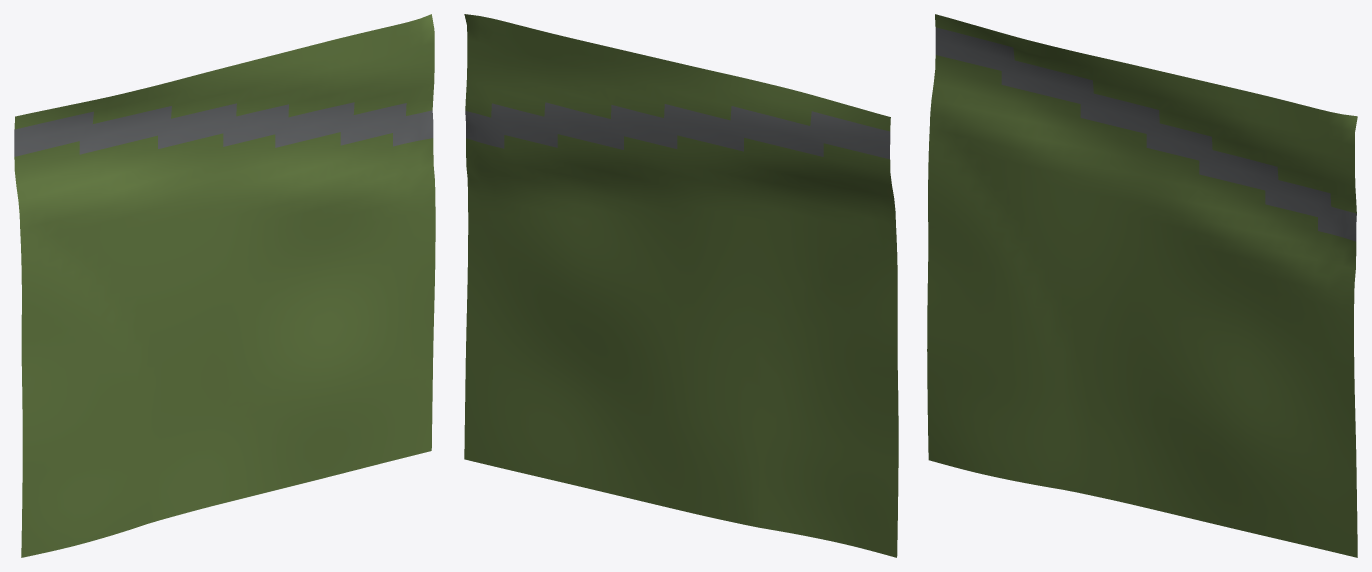
Rendered from island_terrain_05_08.obj.
3 renders of one model, left to right at view 1: azimuth 30°, elevation 25°; view 2: azimuth 150°, elevation 25°; view 3: azimuth 330°, elevation 25°, orthographic.
Visible parts, largest first — view 1: island_terrain_05_08; view 2: island_terrain_05_08; view 3: island_terrain_05_08.
Part boxes in pixels (x1,y1,x2,y2): island_terrain_05_08: (14,14,435,557); island_terrain_05_08: (464,14,898,557); island_terrain_05_08: (927,14,1357,557).
Bounding box in the file's own units: 256 × 256 × 9.05.
